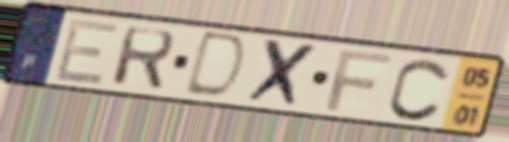C: (386, 56, 454, 124)
D: (180, 29, 251, 103)
E: (50, 17, 123, 88)
F: (323, 48, 395, 114)
R: (108, 24, 178, 93)
X: (241, 36, 322, 112)
